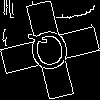Q: (25, 25, 75, 82)
